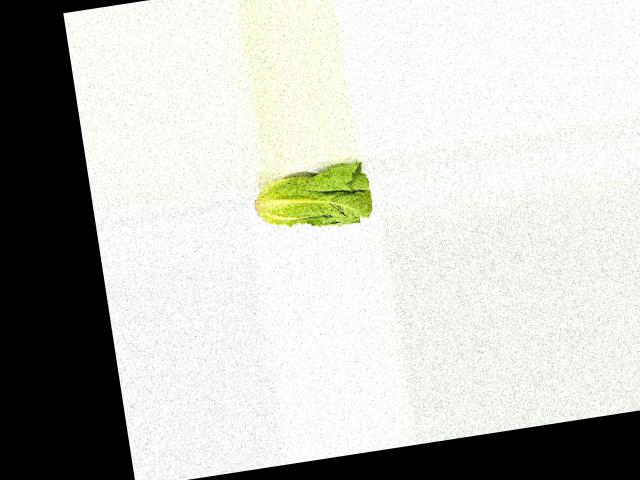lettuce: (249, 158, 375, 240)
